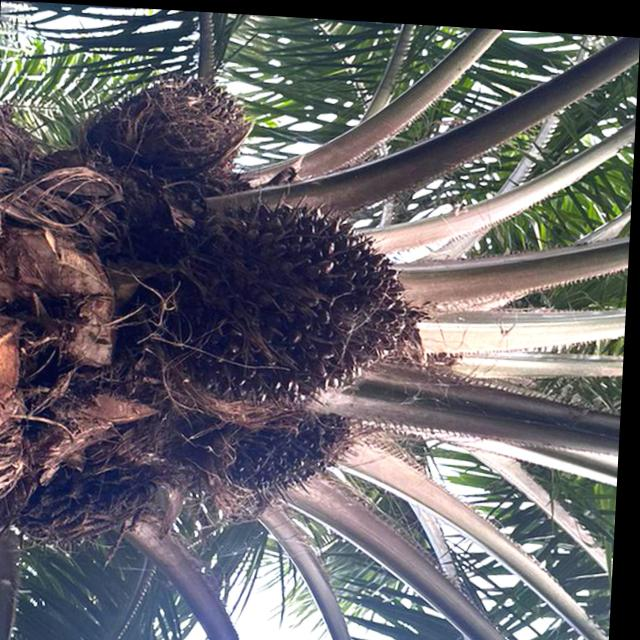ripe: (159, 193, 420, 415)
